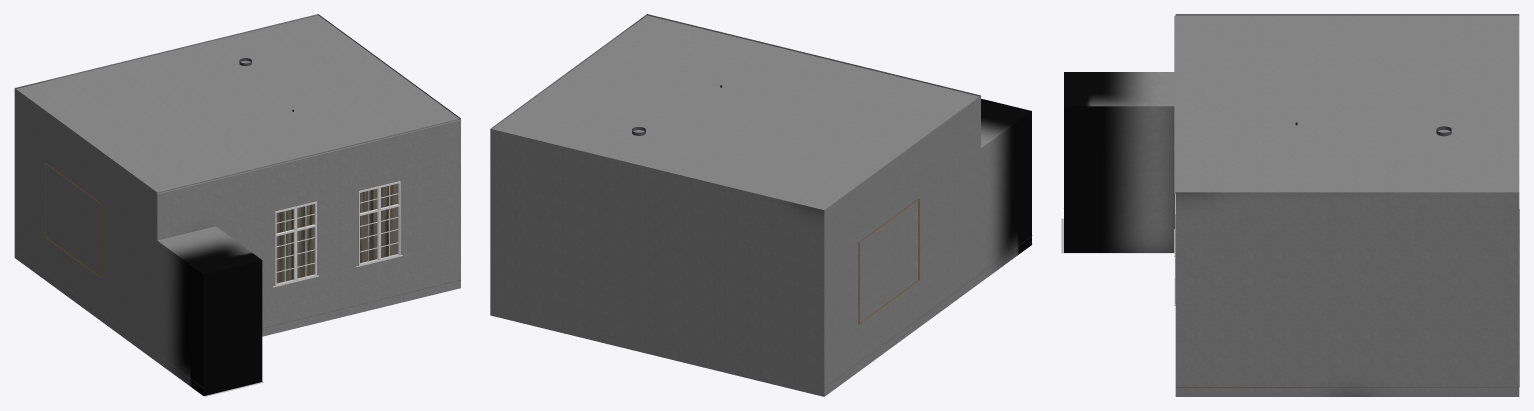
Rendered from 90s-Room.fbx.
The picture shows the model from 3 angles, left to right: view 1: azimuth 30°, elevation 25°; view 2: azimuth 150°, elevation 25°; view 3: azimuth 270°, elevation 25°; orthographic projection. The views are drawn at different scales.
Visible parts, largest first — view 1: Walls.001, Ceiling, Curtains, Window-Frame; view 2: Walls.001, Ceiling; view 3: Walls.001, Ceiling.
Part boxes in pixels (x1,y1,x2,y2): Walls.001: (14, 14, 460, 395); Ceiling: (16, 15, 461, 193); Curtains: (276, 183, 397, 283); Window-Frame: (273, 181, 402, 287); Walls.001: (490, 14, 1032, 396); Ceiling: (492, 15, 981, 209); Walls.001: (1064, 14, 1519, 396); Ceiling: (1174, 15, 1519, 193).
Size of the model in its own units: 1233 by 664 by 1334.
